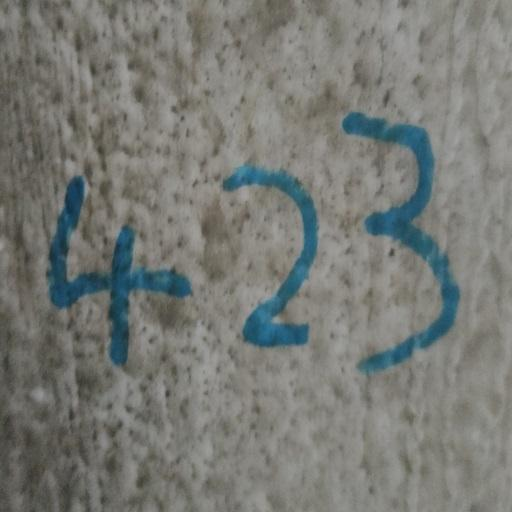stain: (46, 69, 465, 391)
